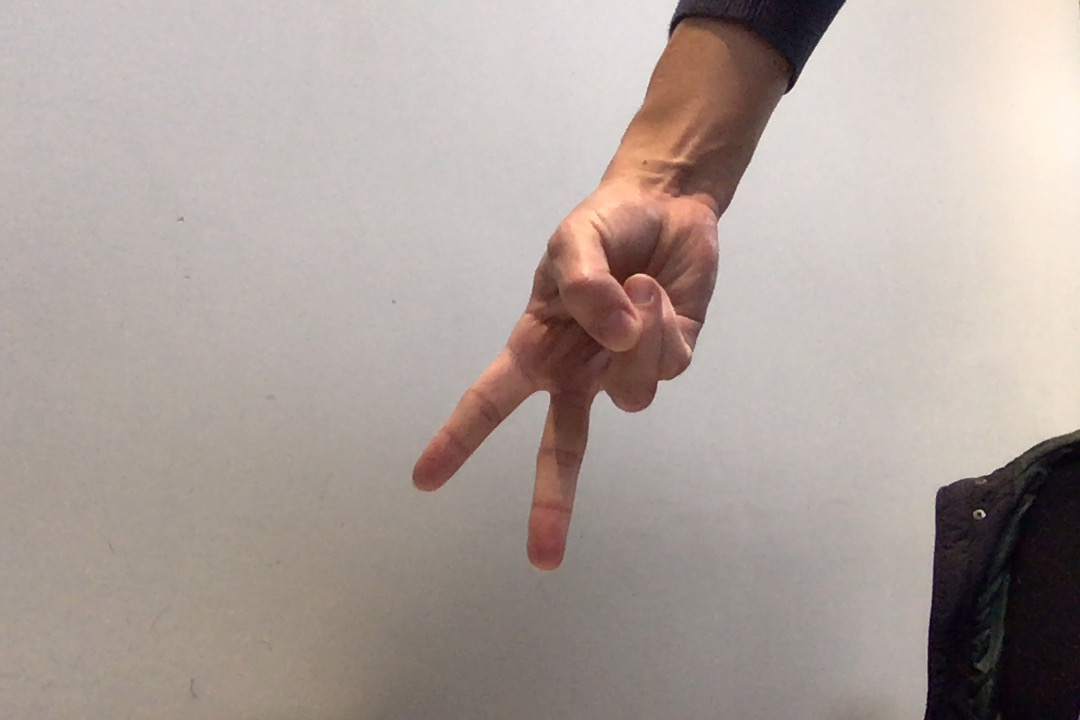peacesign: (407, 189, 726, 578)
